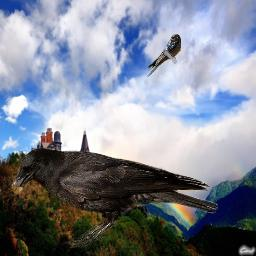Crow: (9, 147, 218, 248)
Swallow: (147, 34, 181, 77)
